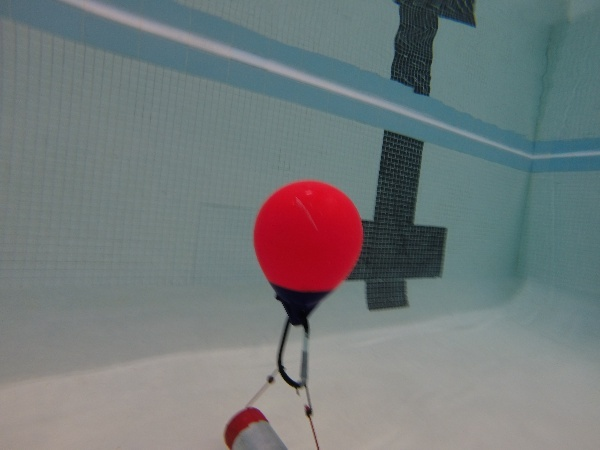buoy_red: (247, 176, 366, 329)
